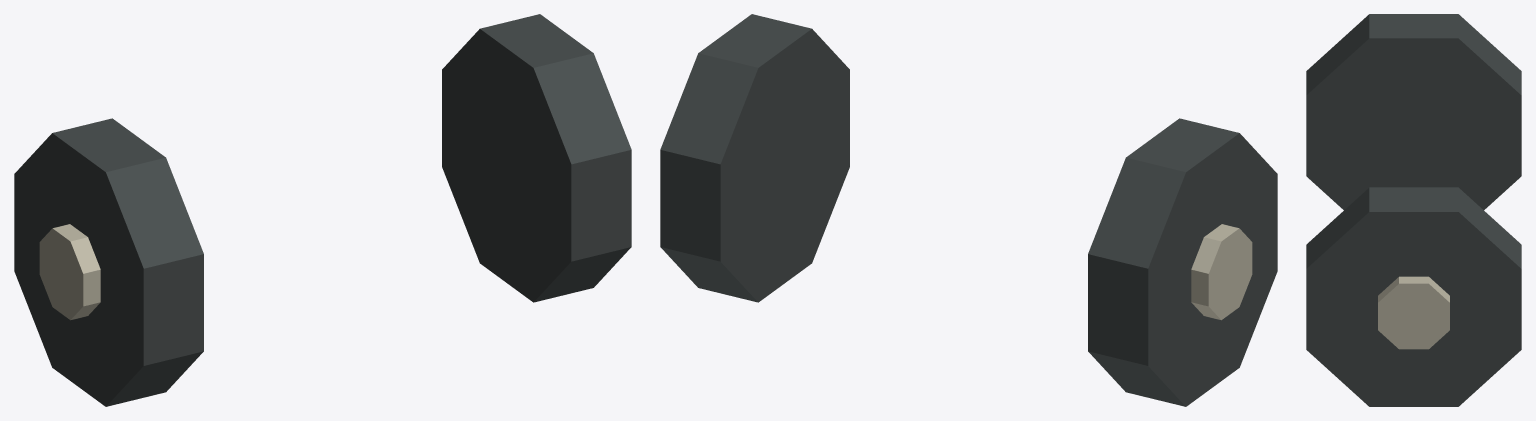
File: cart_wheel.glb
3 renders of one model, left to right at view 1: azimuth 30°, elevation 25°; view 2: azimuth 150°, elevation 25°; view 3: azimuth 270°, elevation 25°, orthographic. The views are drawn at different scales.
Parts seen in each view (by area): view 1: WheelFL; view 2: WheelFL; view 3: WheelFL.
Part boxes in pixels (x1,y1,x2,y2): WheelFL: [14, 14, 631, 406]; WheelFL: [660, 14, 1277, 406]; WheelFL: [1306, 14, 1521, 406].
Bounding box in the file's own units: 1.04 × 0.4468 × 0.4468.
